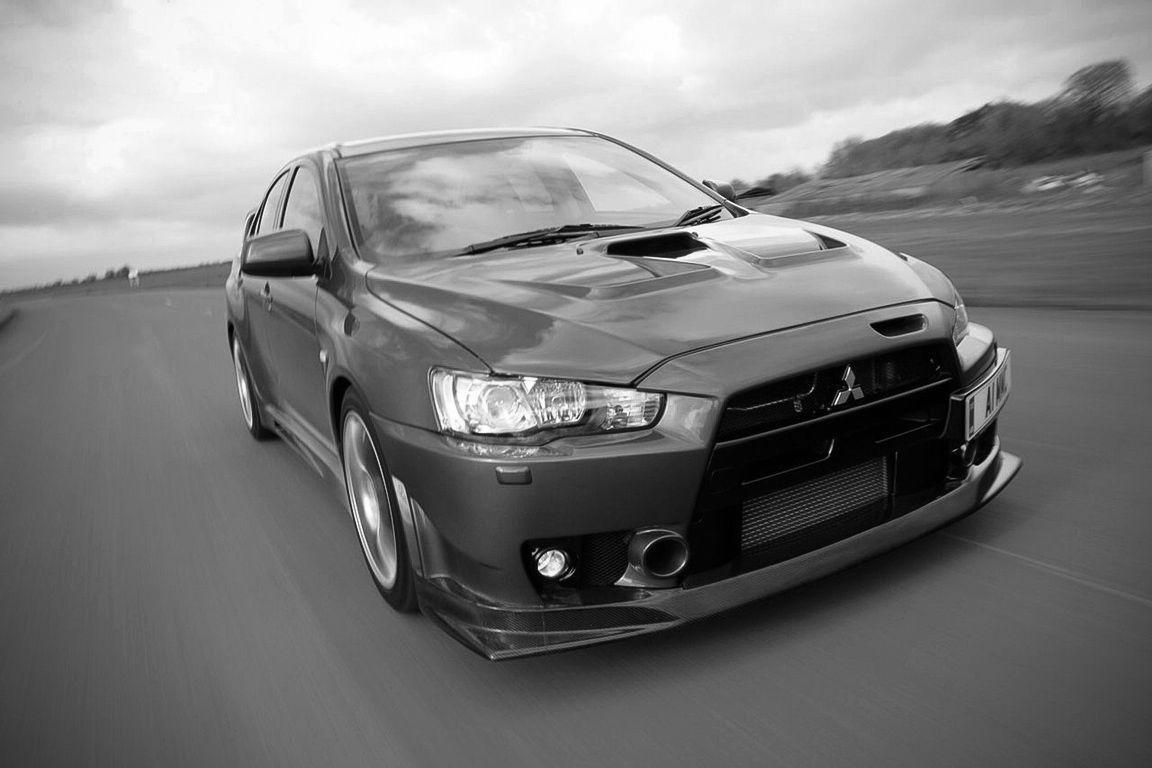car: (219, 121, 1021, 666)
